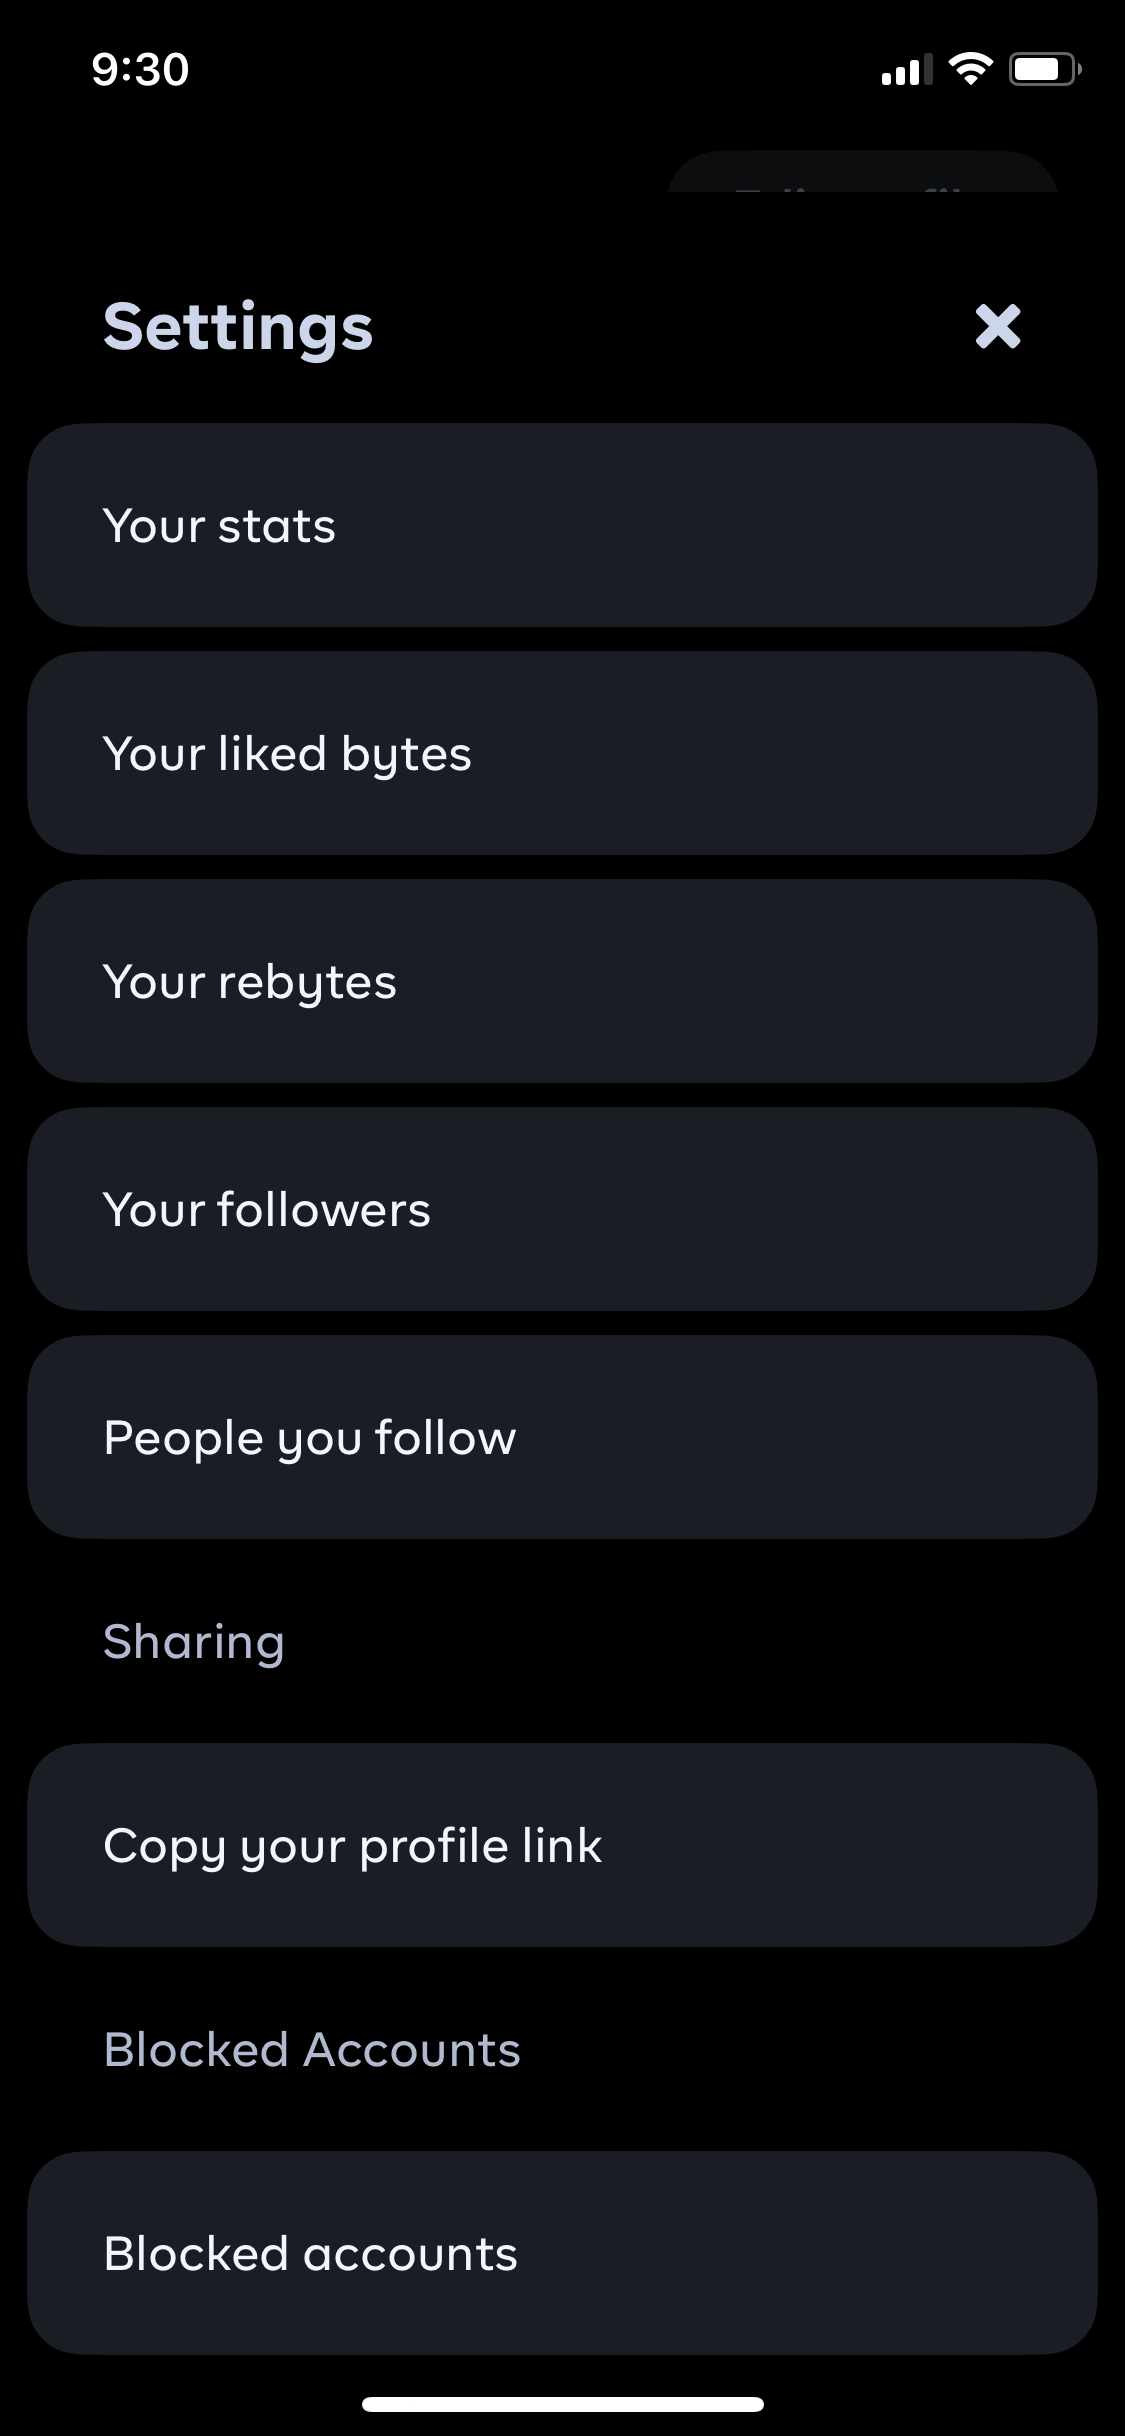Buttons: (19, 1324, 1111, 1564), (23, 2144, 1103, 2380), (12, 1092, 1113, 1324), (9, 639, 1113, 867), (9, 862, 1111, 1087), (19, 1732, 1109, 1959), (16, 410, 1113, 635), (920, 266, 1063, 393)
